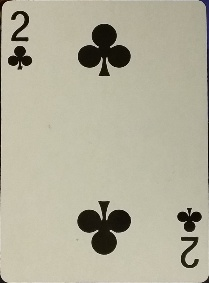C2: (7, 10, 34, 71), (176, 207, 202, 268)
